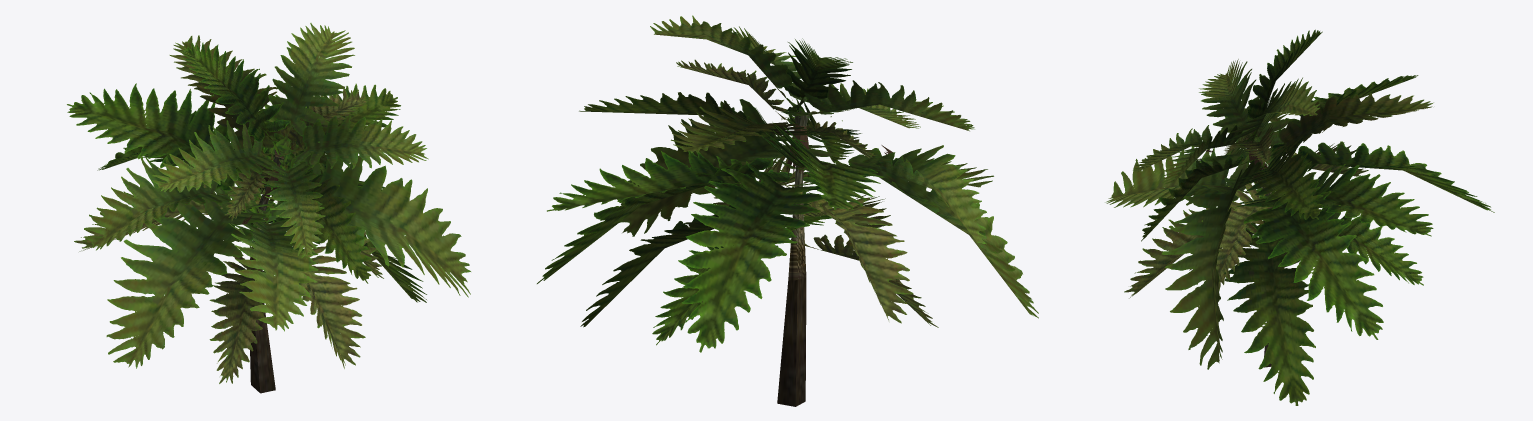
The model's file is 极光世界__晨光平原_神风教分坛_植物_04.FBX.
3 views of the same model, side by side, from view 1: azimuth 30°, elevation 25°; view 2: azimuth 150°, elevation 25°; view 3: azimuth 270°, elevation 25° (orthographic). The views are drawn at different scales.
Parts seen in each view (by area): view 1: DrawCall_0048, DrawCall_0046, DrawCall_0047; view 2: DrawCall_0048, DrawCall_0046, DrawCall_0047; view 3: DrawCall_0048, DrawCall_0046.
Boxes of the visible parts, bbox=[...] form: DrawCall_0048: bbox=[67, 23, 470, 368]; DrawCall_0046: bbox=[169, 35, 426, 383]; DrawCall_0047: bbox=[250, 149, 283, 393]; DrawCall_0048: bbox=[537, 15, 1038, 352]; DrawCall_0046: bbox=[579, 59, 938, 327]; DrawCall_0047: bbox=[777, 111, 809, 406]; DrawCall_0048: bbox=[1105, 29, 1494, 369]; DrawCall_0046: bbox=[1141, 93, 1433, 405].
Size of the model in its own units: 4.83 by 3.9 by 4.71.
